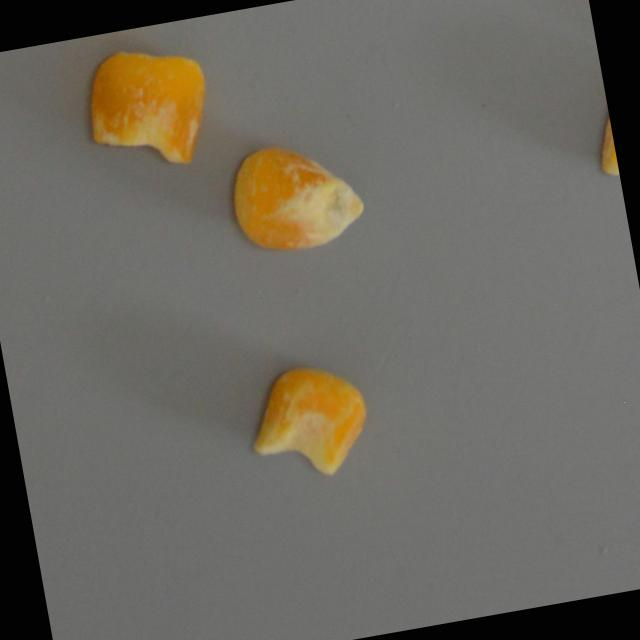dañado: (68, 32, 225, 183)
pelicula: (234, 349, 381, 490), (581, 78, 625, 212)
punto_negro: (218, 128, 373, 264)
